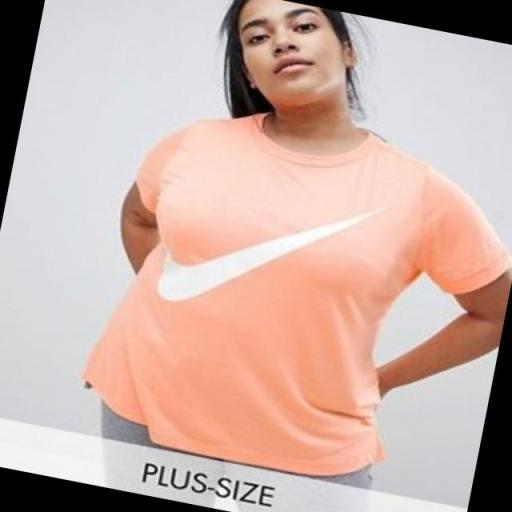Nike: (150, 164, 389, 338)
